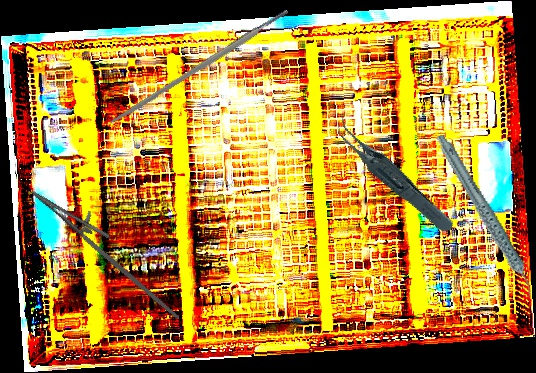Handpiece: (434, 122, 535, 311)
Needle Holder: (17, 177, 201, 321)
Scalpel Handle: (108, 8, 291, 127)
Tissue Forceps: (331, 94, 456, 253)
